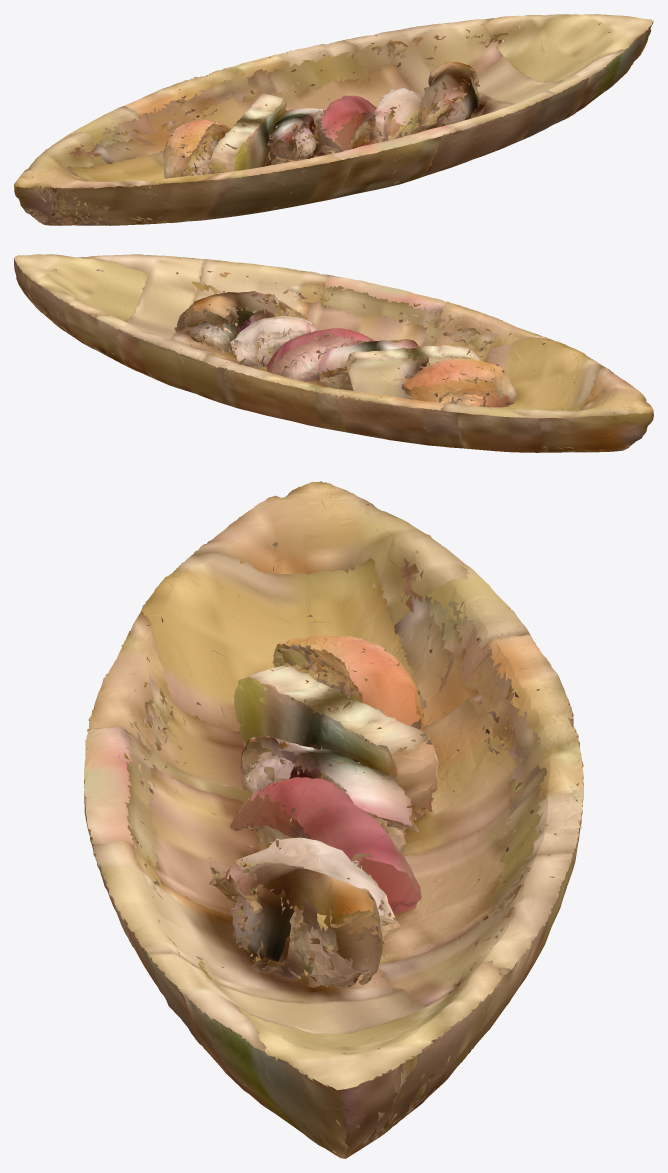
File: sushi_boat_nigiri_ios_tiny.glb
3 renders of one model, top to bottom at view 1: azimuth 30°, elevation 25°; view 2: azimuth 150°, elevation 25°; view 3: azimuth 270°, elevation 25°, orthographic. The views are drawn at different scales.
Visible parts, largest first — view 1: Object_2; view 2: Object_2; view 3: Object_2.
Part boxes in pixels (<box>): Object_2: <box>14,14,653,225</box>; Object_2: <box>14,254,653,452</box>; Object_2: <box>84,481,583,1158</box>.
Size of the model in its own units: 0.4573 by 0.0398 by 0.1563.
Materials: 1 (1 with a texture image).
